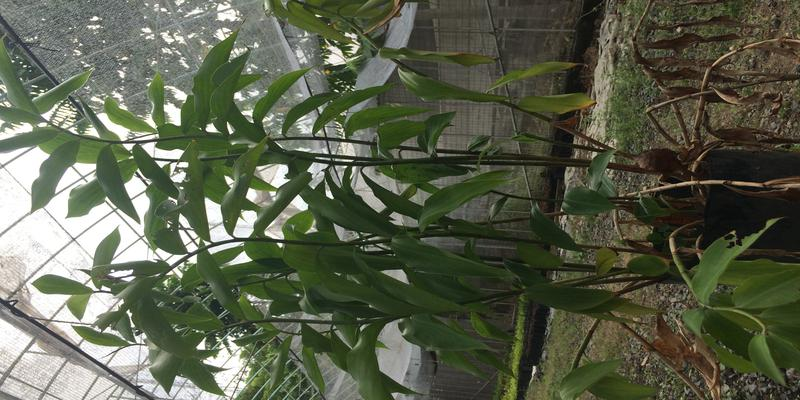Insulin: (56, 98, 729, 331)
